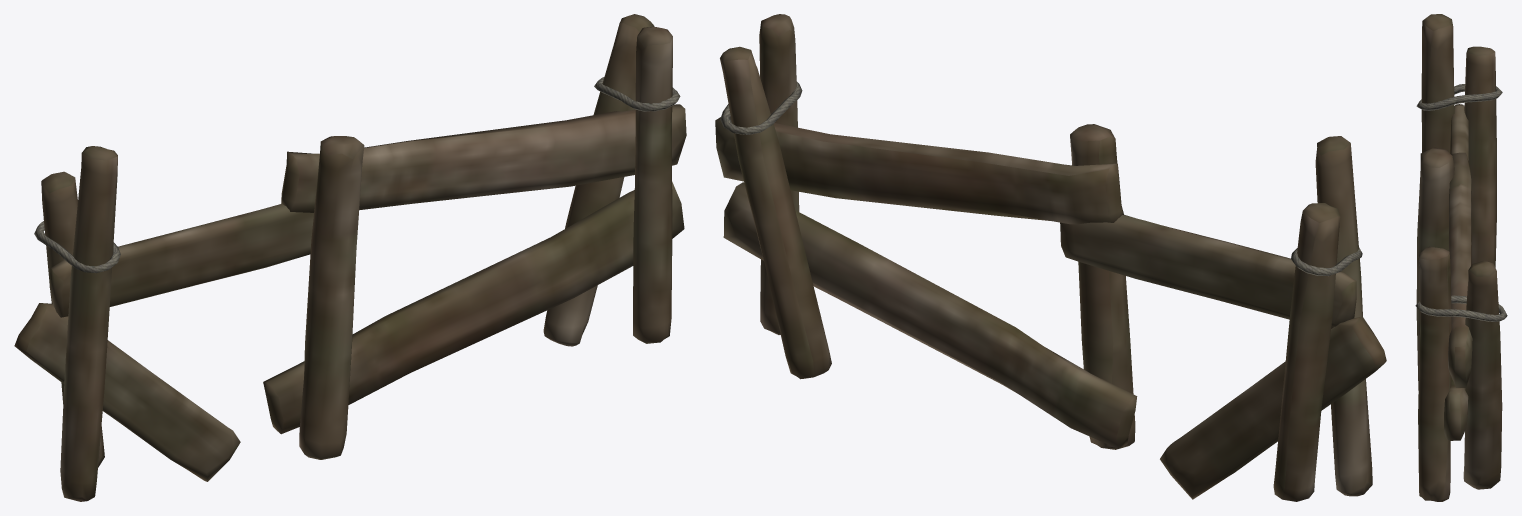
Rendered from t0_fence_crude_wooden_02.glb.
The picture shows the model from 3 angles, left to right: view 1: azimuth 30°, elevation 25°; view 2: azimuth 150°, elevation 25°; view 3: azimuth 270°, elevation 25°; orthographic projection. The views are drawn at different scales.
Visible parts, largest first — view 1: global_props_roughwood_fence_01_d_2; view 2: global_props_roughwood_fence_01_d_2; view 3: global_props_roughwood_fence_01_d_2.
Part boxes in pixels (bbox=[...]): global_props_roughwood_fence_01_d_2: bbox=[14, 14, 686, 501]; global_props_roughwood_fence_01_d_2: bbox=[715, 14, 1386, 501]; global_props_roughwood_fence_01_d_2: bbox=[1415, 14, 1507, 501].
Bounding box in the file's own units: 3.12 × 1.68 × 0.4601.
Materials: 2 (2 with a texture image).
